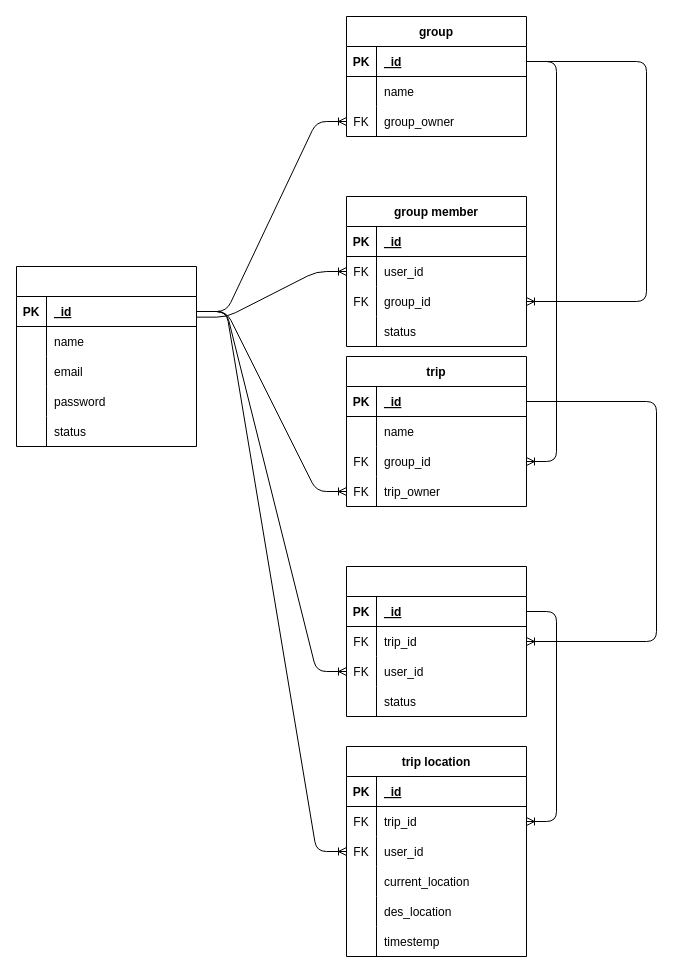
Some shapes in this 673 by 973 pixel diagram are drawn without their labels. The box of each missing label's shape, as (x1, y1, x2, y2) in pixels:
trip member: (346, 566, 526, 716)
User: (16, 266, 196, 446)
